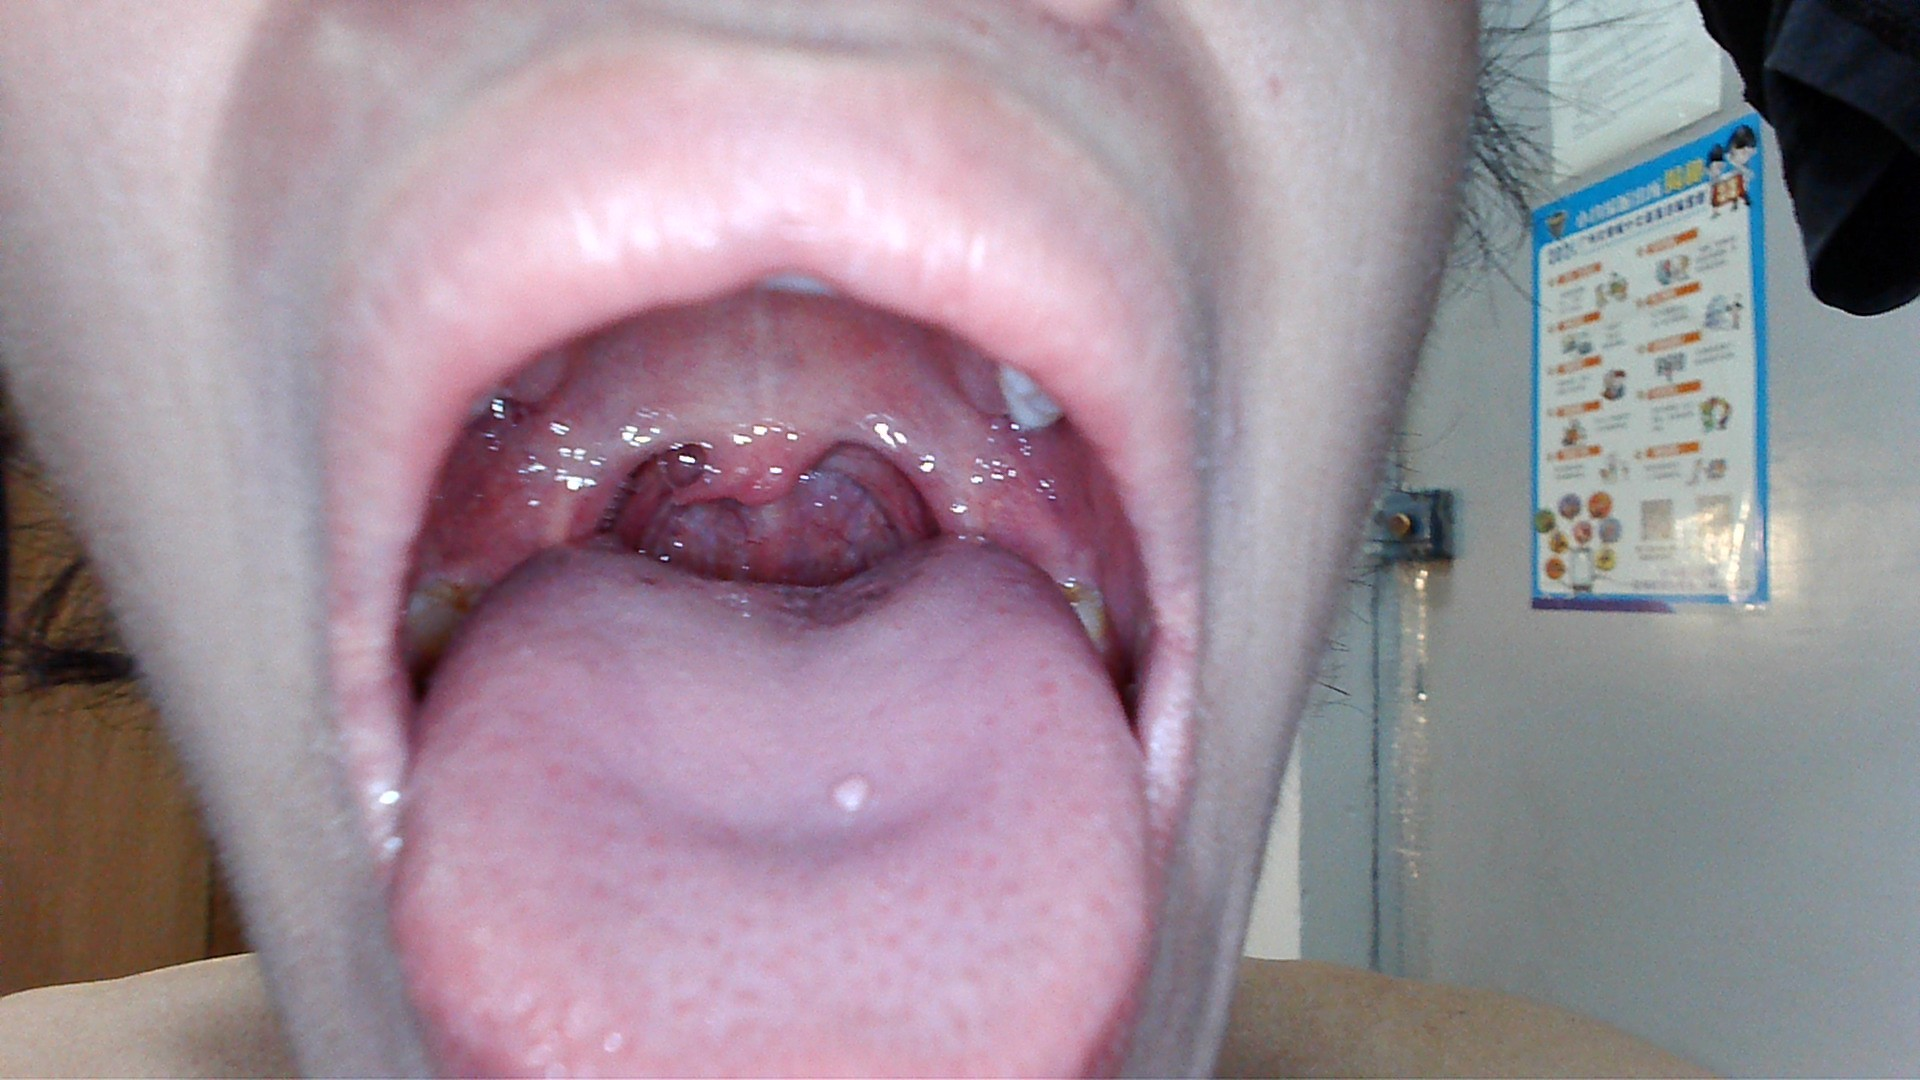throat: (855, 392, 978, 541), (538, 425, 638, 545)
